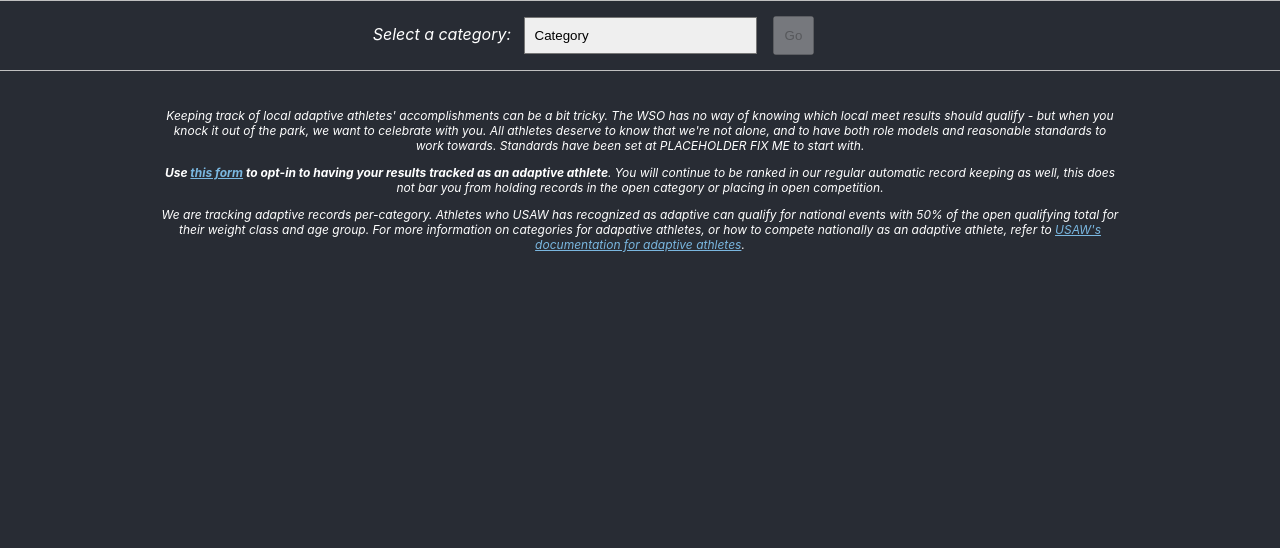
Test: AdaptiveRecords (user-based) › never lists a STANDARD placeholder as a record holder
Select "Visual Impairment" in the dropdown named "Category" at point(640, 36), box [524,17,756,54]
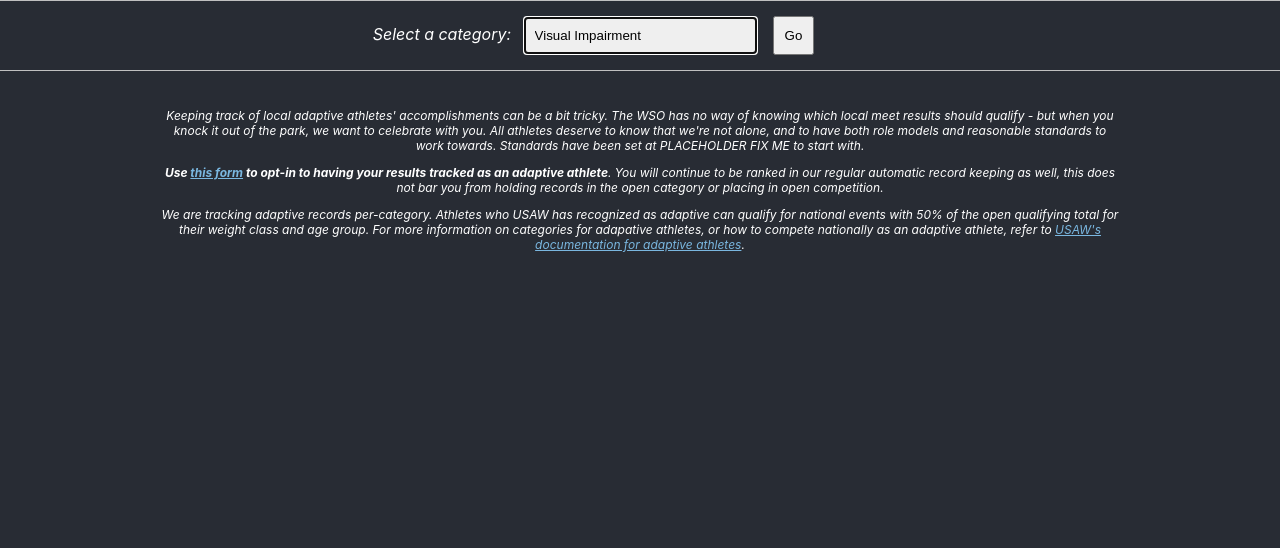
Click the button "Go" at point(793, 36), box [772,16,814,55]
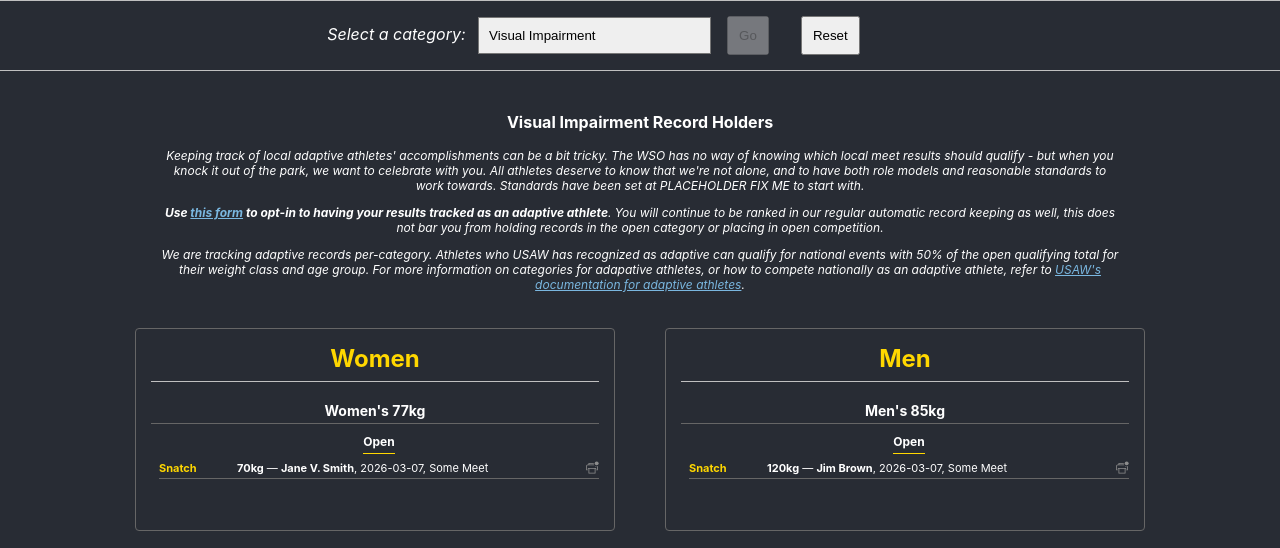
Expected: the text "Jane V. Smith" is shown, [281,461,354,475]
